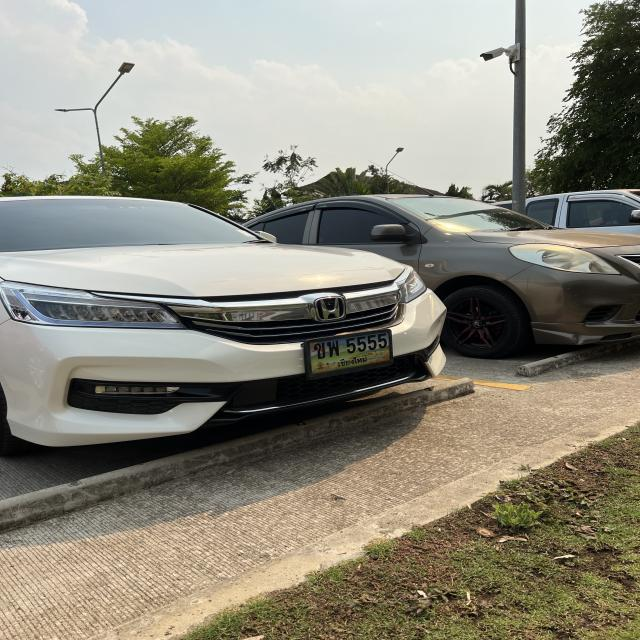license_plate: (303, 328, 394, 378)
